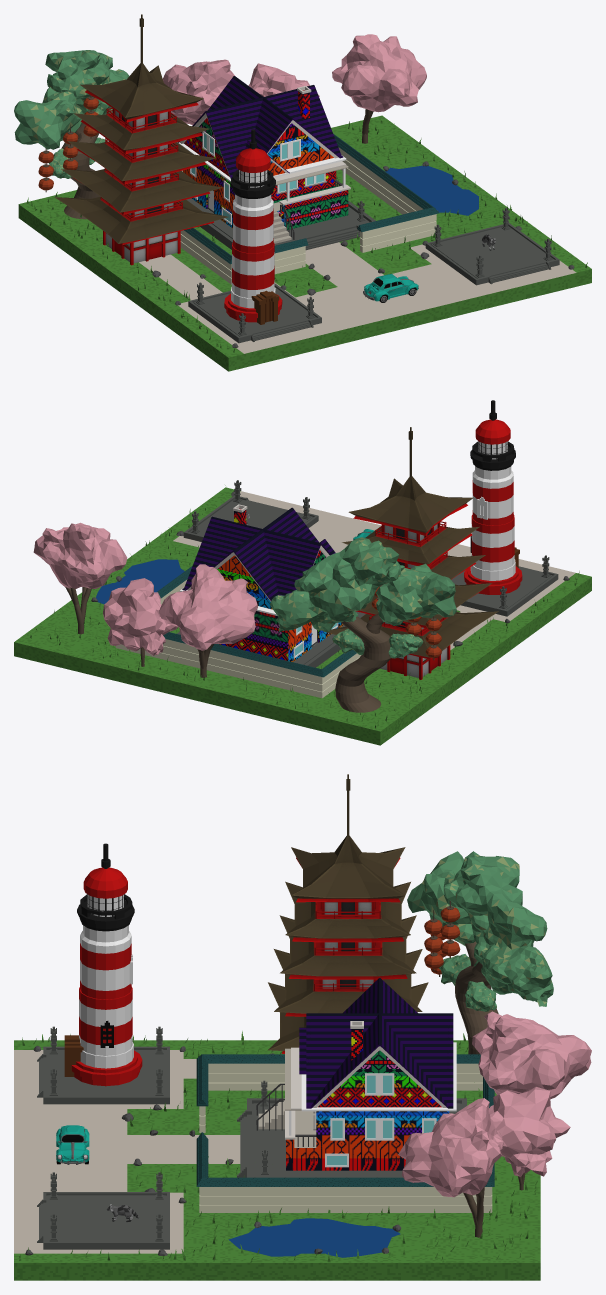
3 renders of one model, top to bottom at view 1: azimuth 30°, elevation 25°; view 2: azimuth 150°, elevation 25°; view 3: azimuth 270°, elevation 25°, orthographic. The views are drawn at different scales.
Parts seen in each view (by area): view 1: Cube.005, Cube.966, OBJRANDOM_LIGHTHOUSE, VEHICLES_VOLKSWAGEN; view 2: Cube.005, Cube.966, OBJRANDOM_LIGHTHOUSE; view 3: Cube.005, Cube.966, OBJRANDOM_LIGHTHOUSE, VEHICLES_VOLKSWAGEN.
Part boxes in pixels (box(x1,y1,x2,y2)): Cube.005: box(14, 14, 591, 371); Cube.966: box(177, 76, 350, 243); OBJRANDOM_LIGHTHOUSE: box(224, 129, 282, 324); VEHICLES_VOLKSWAGEN: box(363, 274, 418, 302); Cube.005: box(14, 427, 591, 745); Cube.966: box(179, 504, 343, 661); OBJRANDOM_LIGHTHOUSE: box(464, 400, 522, 594); Cube.005: box(14, 774, 591, 1280); Cube.966: box(256, 978, 456, 1170); OBJRANDOM_LIGHTHOUSE: box(64, 843, 142, 1086); VEHICLES_VOLKSWAGEN: box(56, 1125, 89, 1164).
Size of the model in its own units: 4528 by 2713 by 4389.
46 materials, 10 textured.
